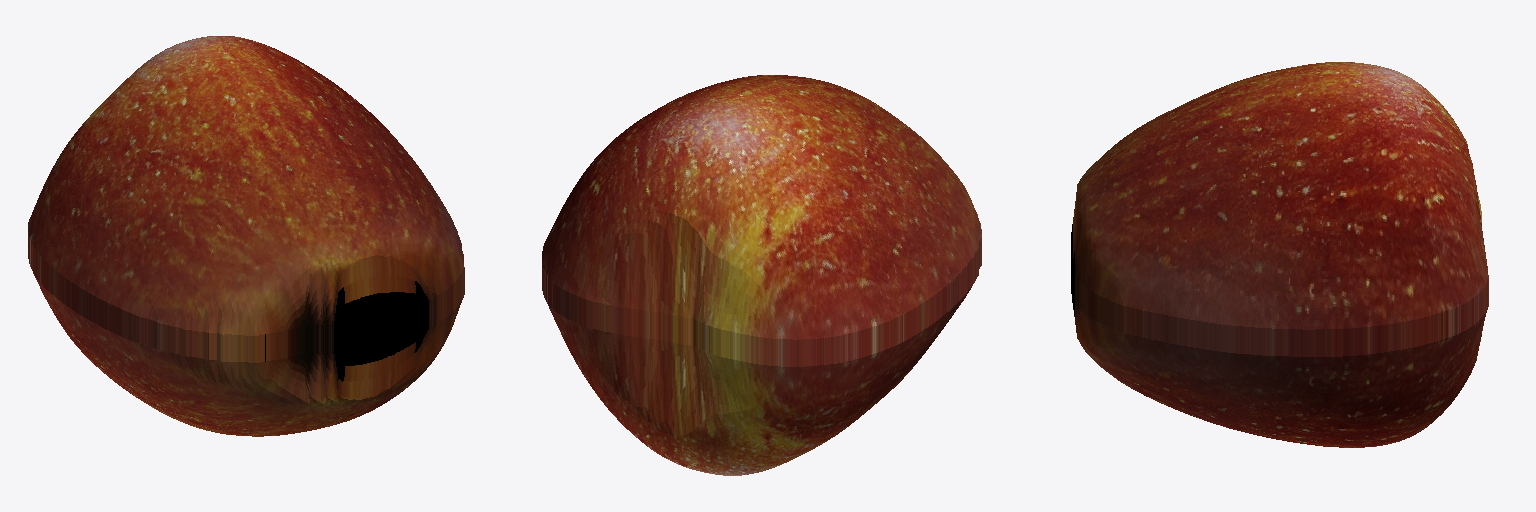
3 renders of one model, left to right at view 1: azimuth 30°, elevation 25°; view 2: azimuth 150°, elevation 25°; view 3: azimuth 270°, elevation 25°, orthographic.
Visible parts, largest first — view 1: Grid; view 2: Grid; view 3: Grid.
Part boxes in pixels (x1,y1,x2,y2): Grid: (28, 36, 464, 436); Grid: (542, 75, 981, 475); Grid: (1071, 62, 1488, 447).
Bounding box in the file's own units: 1.65 × 1.6 × 1.66.
Materials: 1 (1 with a texture image).